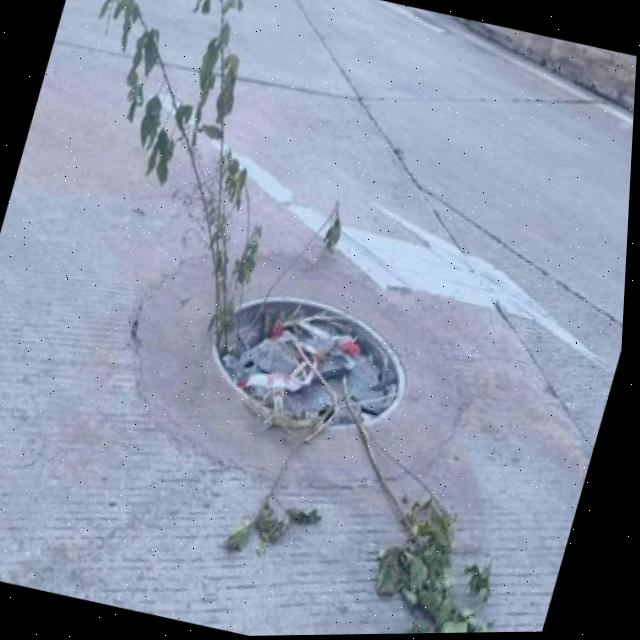manhole: (184, 271, 436, 454)
